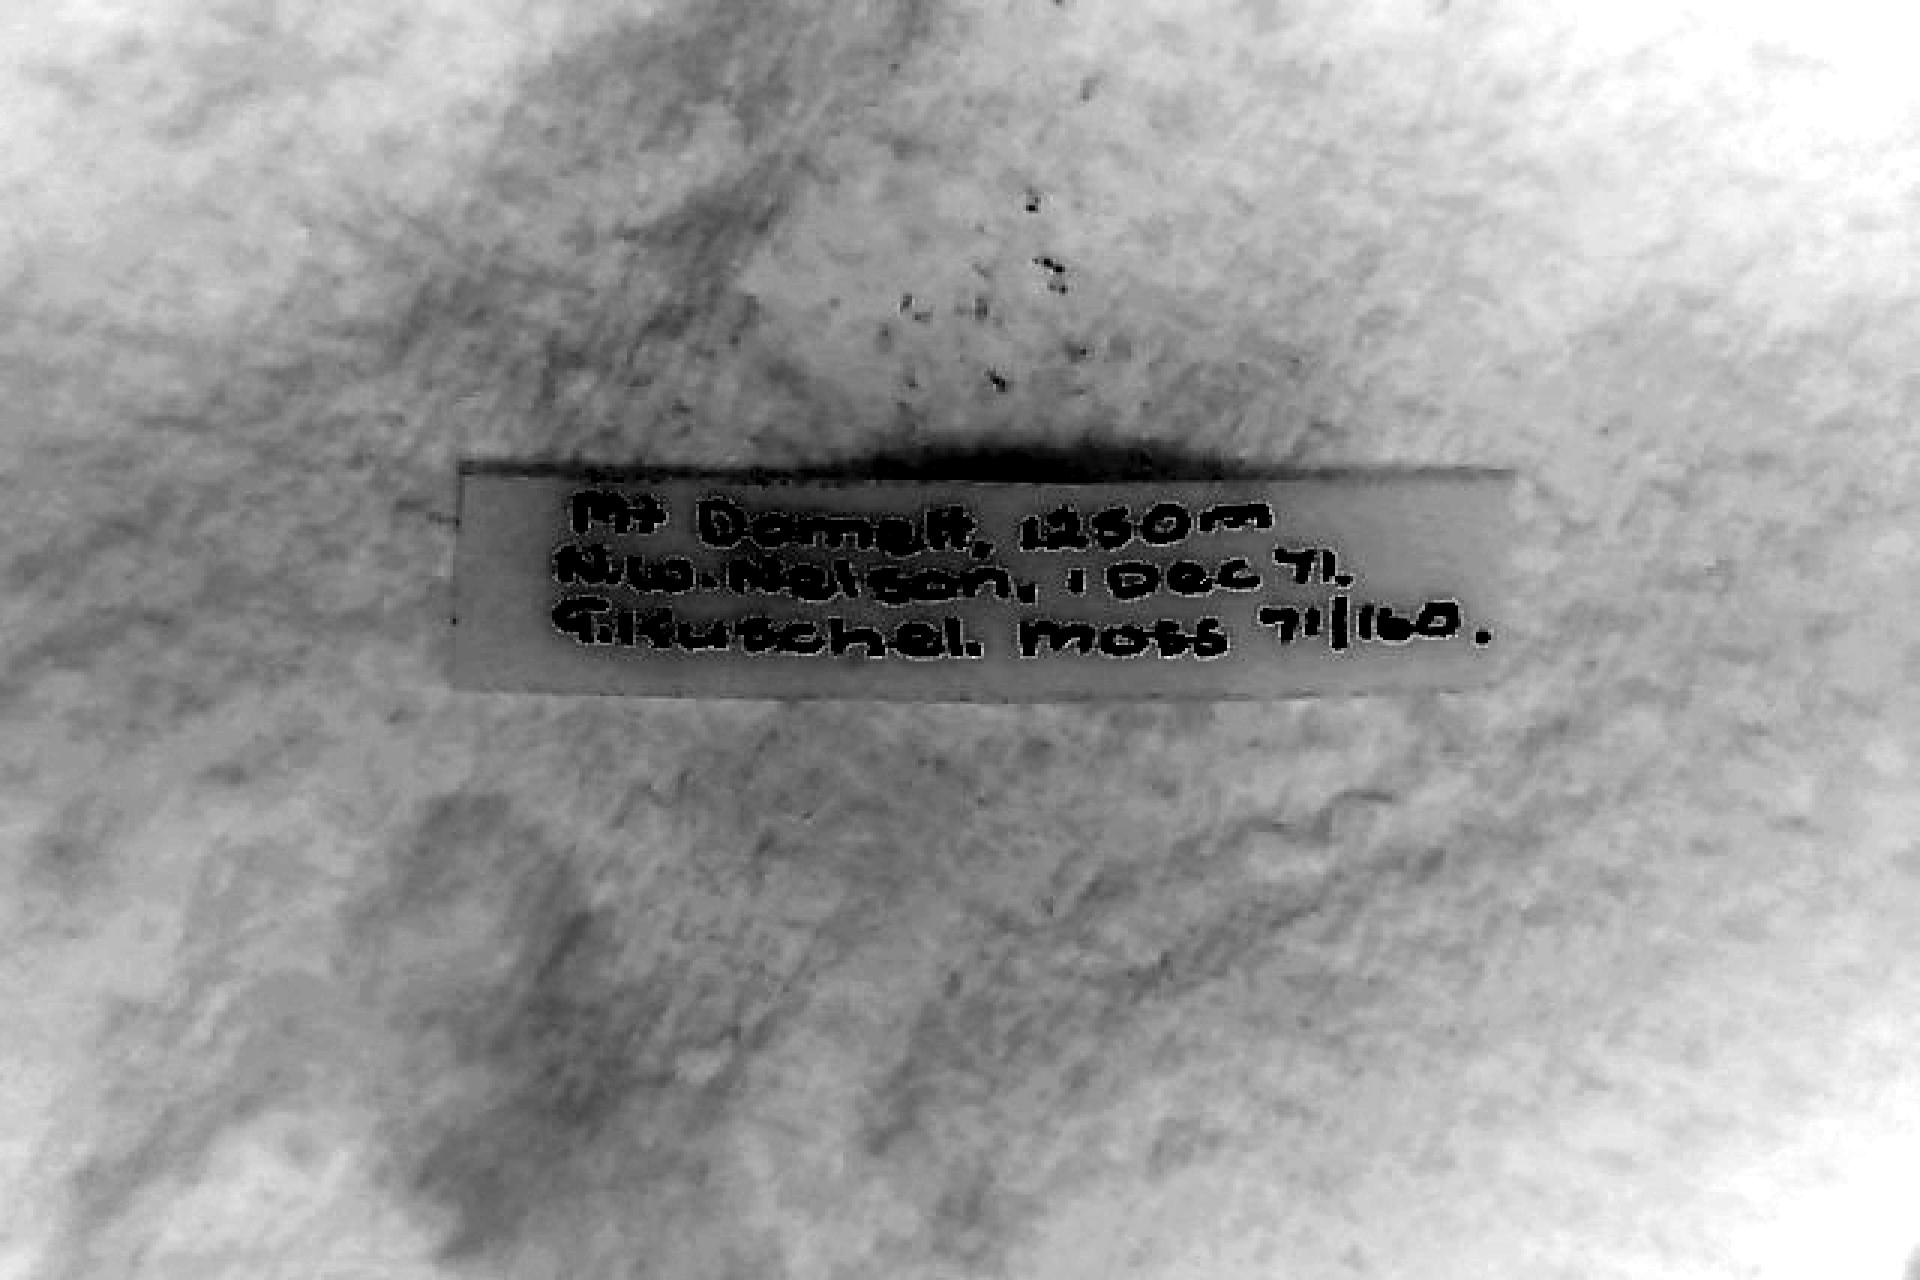hand_label: (454, 467, 1511, 698)
